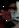with_mask: (1, 2, 19, 28)
